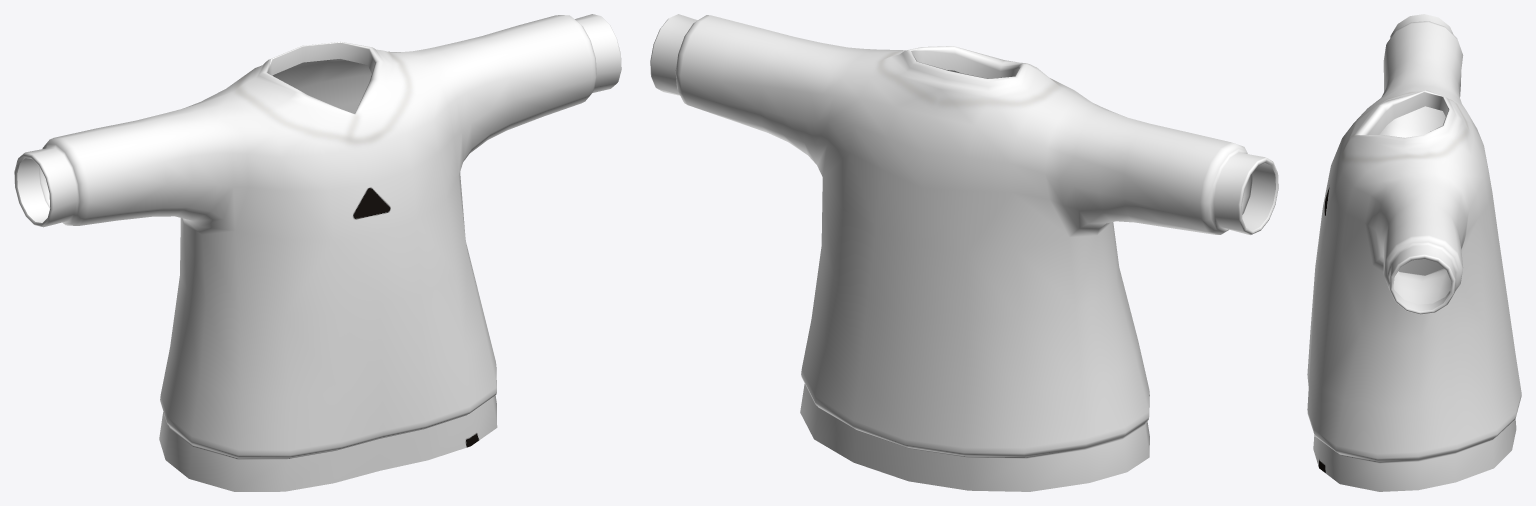
Rendered from upper cloth 07.glb.
3 renders of one model, left to right at view 1: azimuth 30°, elevation 25°; view 2: azimuth 150°, elevation 25°; view 3: azimuth 270°, elevation 25°, orthographic. The views are drawn at different scales.
Visible parts, largest first — view 1: upper_cloth_07; view 2: upper_cloth_07; view 3: upper_cloth_07.
Boxes of the visible parts, x1,y1,x2,y2 form: upper_cloth_07: (14, 14, 621, 491); upper_cloth_07: (650, 14, 1278, 491); upper_cloth_07: (1307, 14, 1521, 491).
Bounding box in the file's own units: 0.0116 × 0.00715 × 0.00433.
1 material, 1 textured.
